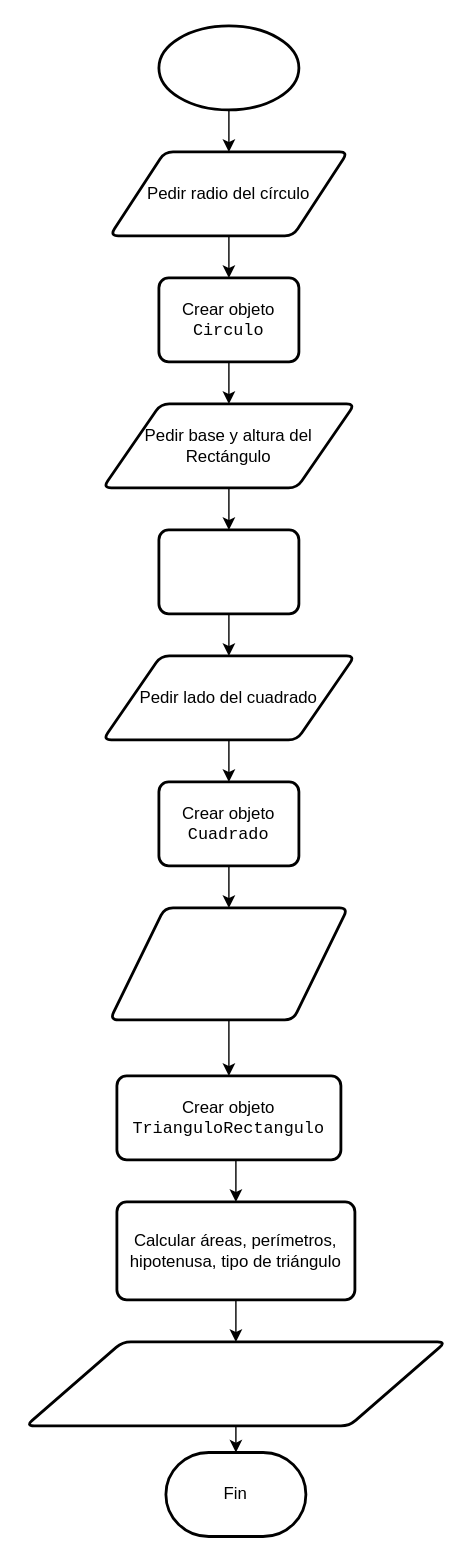
Some shapes in this 470 by 1561 pixel diagram are drawn without their labels. The box of each missing label's shape, as (x1, y1, x2, y2) in pixels:
Crear objeto Rectángulo: (157, 528, 300, 615)
Inicio: (157, 24, 300, 111)
Mostrar resultados en JOptionPane.showMessageDialog: (24, 1340, 447, 1427)
Pedir base y altura del Triángulo Rectángulo: (108, 906, 349, 1021)
